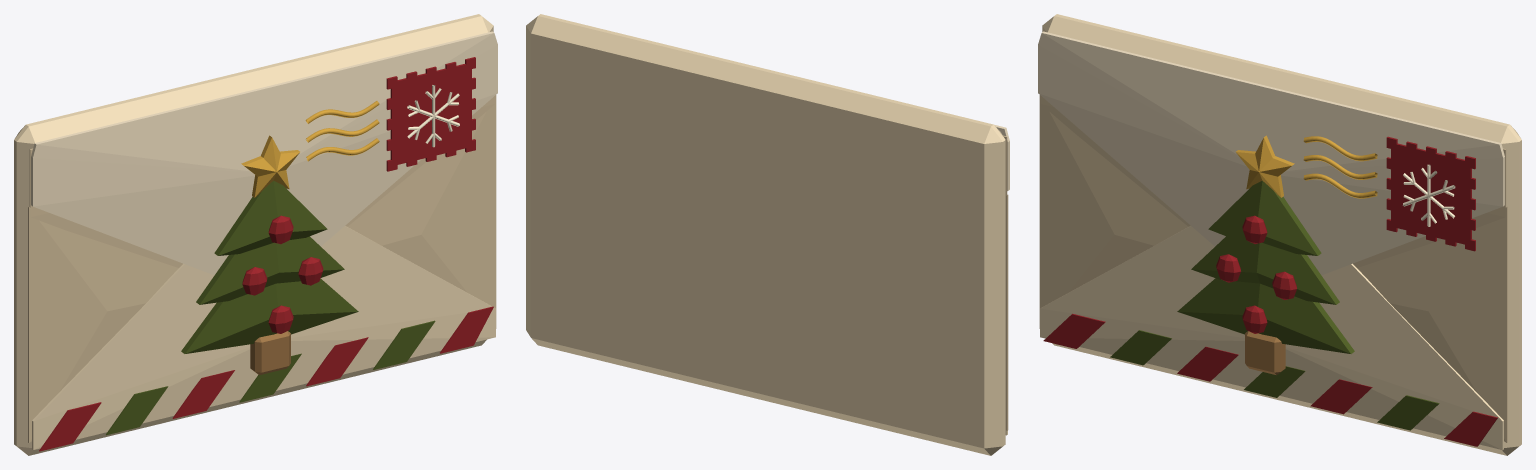
Rendered from 18 Christmas Envelope.glb.
The picture shows the model from 3 angles, left to right: view 1: azimuth 30°, elevation 25°; view 2: azimuth 150°, elevation 25°; view 3: azimuth 330°, elevation 25°; orthographic projection.
Parts seen in each view (by area): view 1: Snowflake branch.009; view 2: Snowflake branch.009; view 3: Snowflake branch.009.
Boxes of the visible parts, x1,y1,x2,y2 form: Snowflake branch.009: [14, 14, 497, 455]; Snowflake branch.009: [526, 14, 1009, 455]; Snowflake branch.009: [1038, 14, 1521, 455].
Bounding box in the file's own units: 4 × 2.64 × 0.5803.
